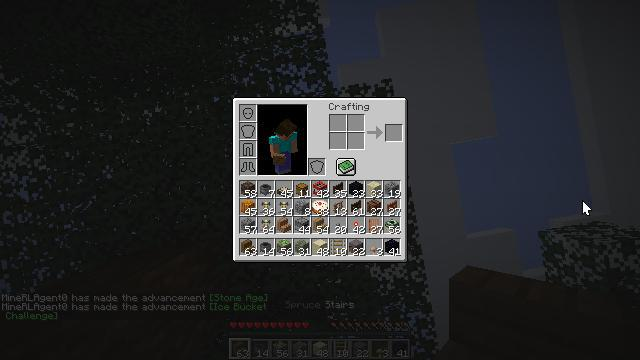cursor: (582, 200, 592, 216)
